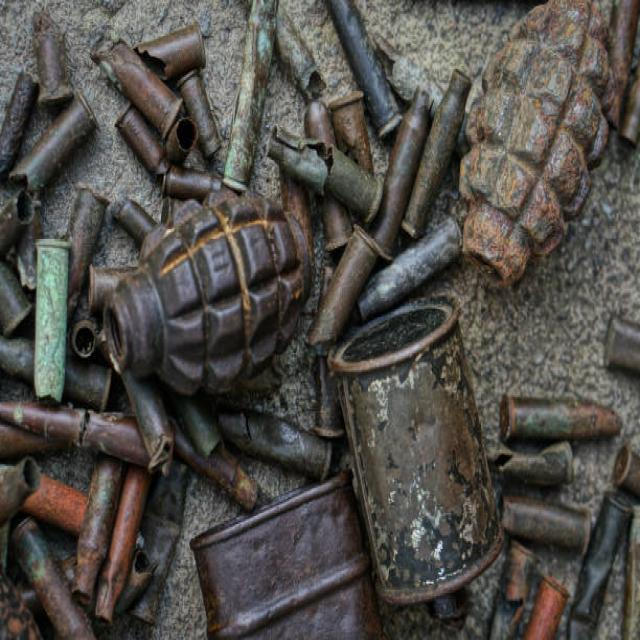grenade: (92, 180, 317, 421), (460, 1, 618, 293)
